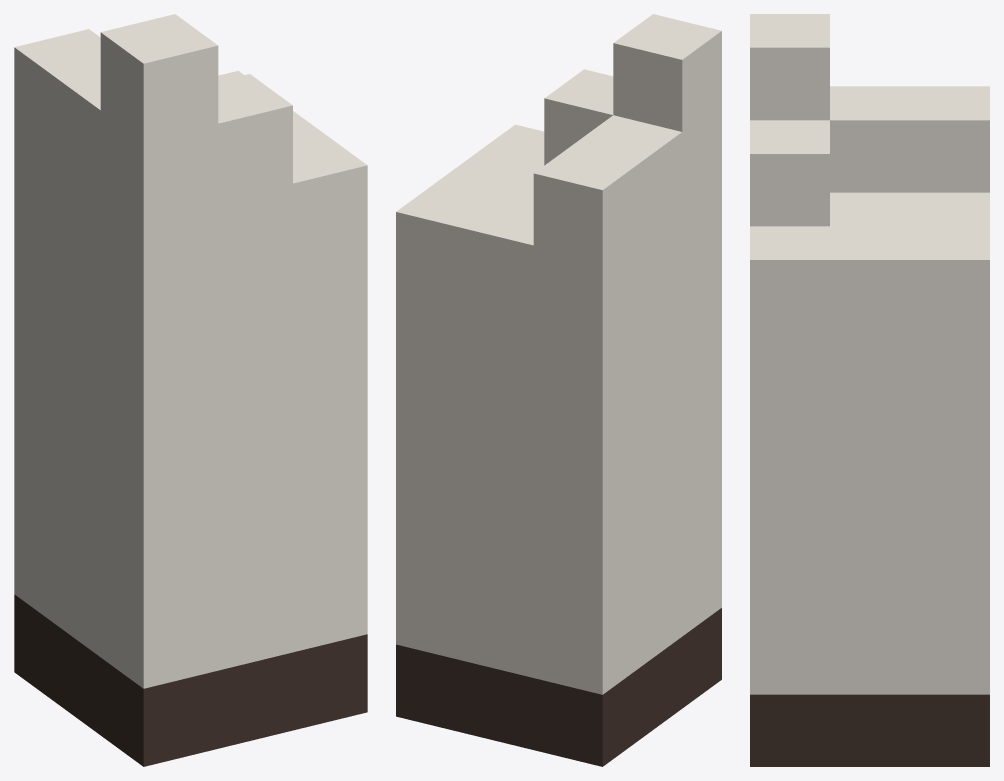
The model's file is calf__leg_fr.glb.
3 views of the same model, side by side, from view 1: azimuth 30°, elevation 25°; view 2: azimuth 150°, elevation 25°; view 3: azimuth 270°, elevation 25° (orthographic). The views are drawn at different scales.
Parts seen in each view (by area): view 1: calf__leg_fr; view 2: calf__leg_fr; view 3: calf__leg_fr.
Part boxes in pixels (box(x1,y1,x2,y2)): calf__leg_fr: box(14, 14, 367, 766); calf__leg_fr: box(396, 14, 721, 766); calf__leg_fr: box(750, 14, 989, 766).
Size of the model in its own units: 0.3 by 0.9 by 0.3.
1 material, 1 textured.
